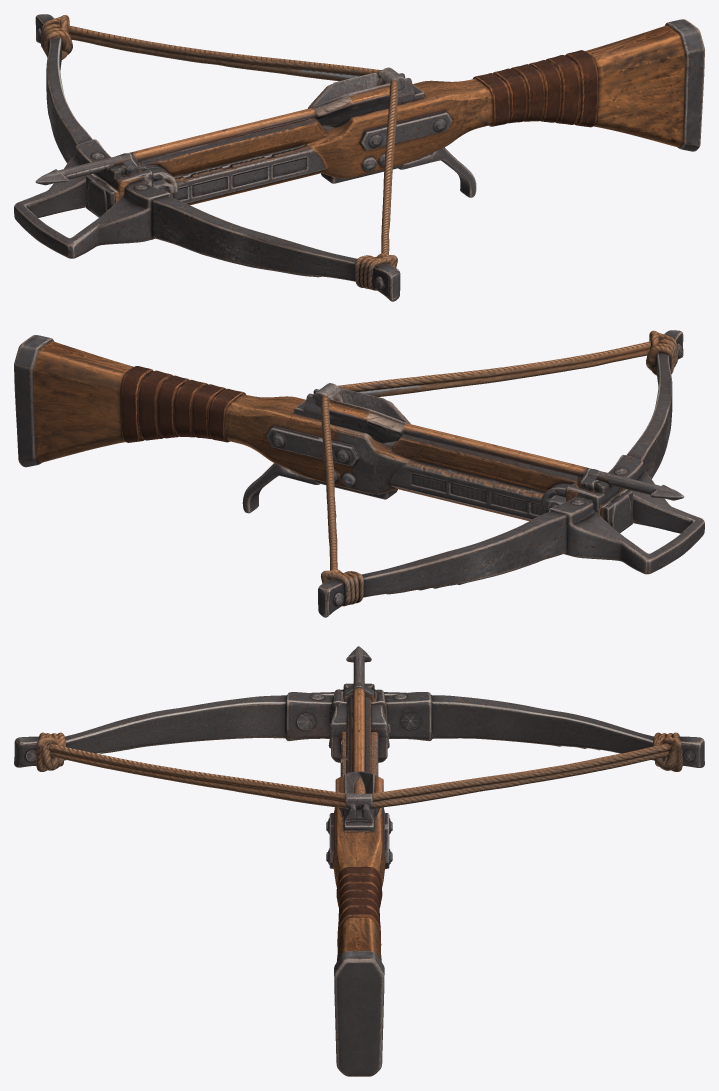
File: Crossbow2.glb
The picture shows the model from 3 angles, top to bottom: view 1: azimuth 30°, elevation 25°; view 2: azimuth 150°, elevation 25°; view 3: azimuth 270°, elevation 25°; orthographic projection. The views are drawn at different scales.
Bounding box in the file's own units: 1.91 × 0.4063 × 1.79.
Materials: 1 (1 with a texture image).
